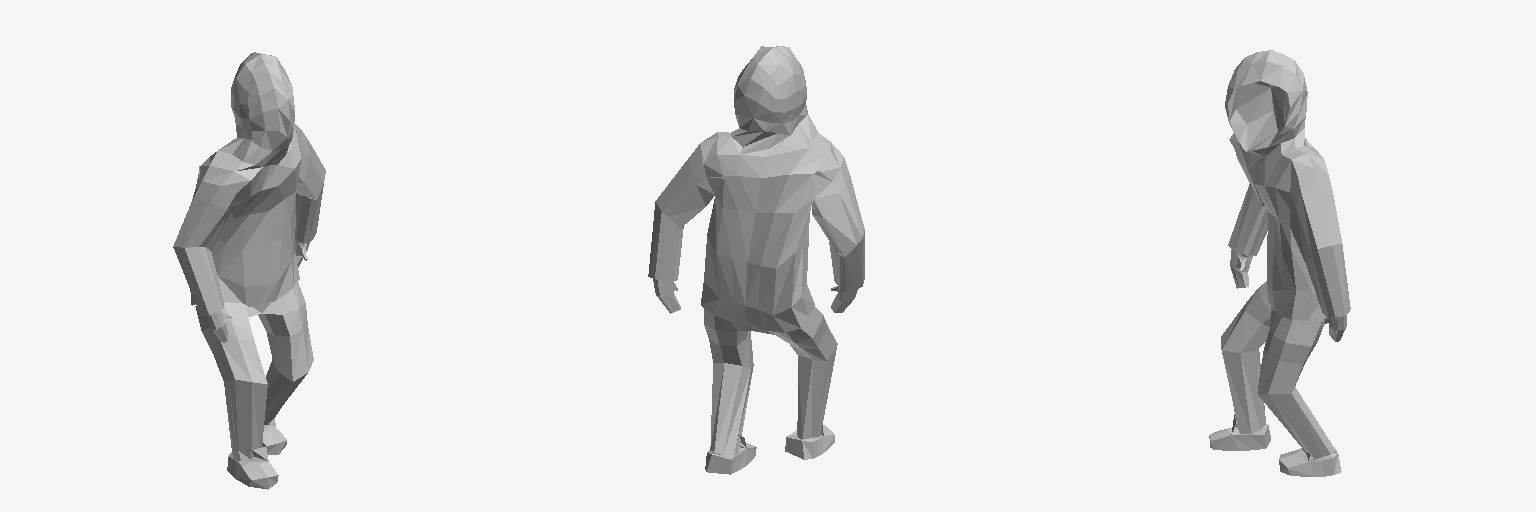
The model's file is Shadowmanv_000013.obj.
3 views of the same model, side by side, from view 1: azimuth 30°, elevation 25°; view 2: azimuth 150°, elevation 25°; view 3: azimuth 270°, elevation 25° (orthographic).
Parts seen in each view (by area): view 1: Cube.000; view 2: Cube.000; view 3: Cube.000.
Part boxes in pixels (x1,y1,x2,y2): Cube.000: (173, 52, 325, 489); Cube.000: (648, 46, 864, 474); Cube.000: (1209, 50, 1350, 476).
Size of the model in its own units: 5.12 by 11.32 by 3.54.